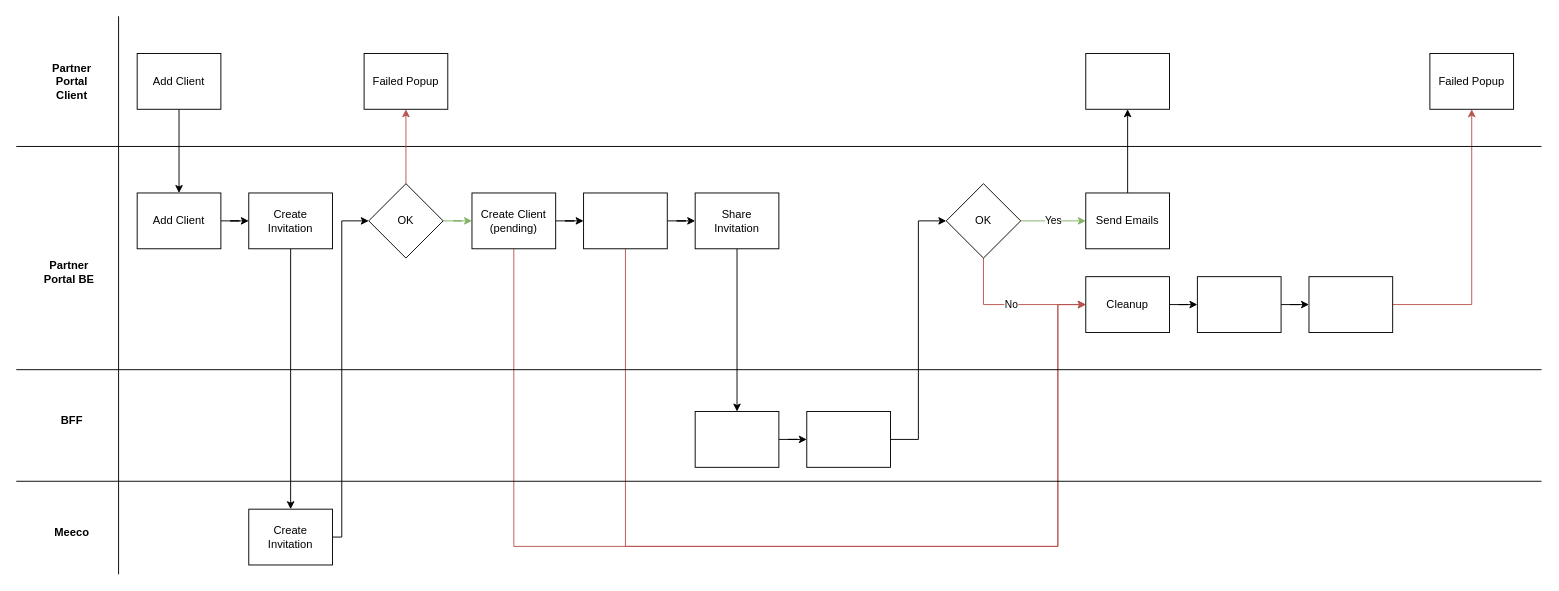
Image size: 1559x591. Some labels were removed from this diagram. The shapes that lost their labels are listed below. From the top down, each one's centre as x and y in pixels, then its label:
At [1127,81]: "Success Popup".
At [625,220]: "Create Subscription (pending)".
At [1238,304]: "Delete Client".
At [1350,304]: "Delete Subscription".
At [736,439]: "Store Invitation".
At [848,439]: "Create Voucher".
